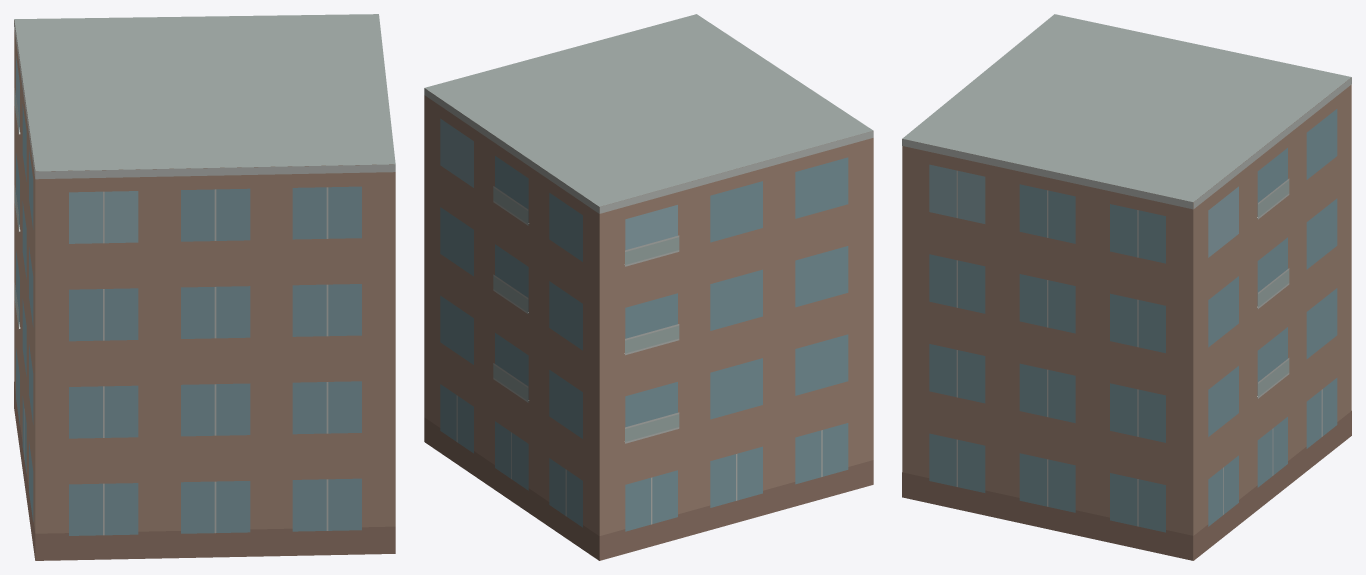
The model's file is survey-upis-33035559.glb.
The picture shows the model from 3 angles, left to right: view 1: azimuth 30°, elevation 25°; view 2: azimuth 150°, elevation 25°; view 3: azimuth 270°, elevation 25°; orthographic projection. The views are drawn at different scales.
Parts seen in each view (by area): view 1: survey-upis-33035559.tmp; view 2: survey-upis-33035559.tmp; view 3: survey-upis-33035559.tmp.
Part boxes in pixels (bbox=[...]): survey-upis-33035559.tmp: bbox=[14, 14, 395, 560]; survey-upis-33035559.tmp: bbox=[424, 14, 873, 560]; survey-upis-33035559.tmp: bbox=[902, 14, 1351, 560].
Size of the model in its own units: 13.75 by 12.2 by 13.87.
